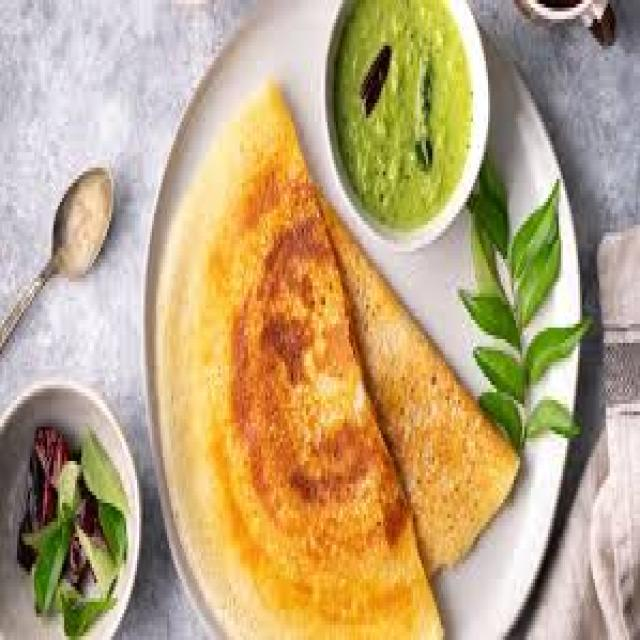DOSA: (158, 80, 446, 636), (320, 194, 521, 580)
